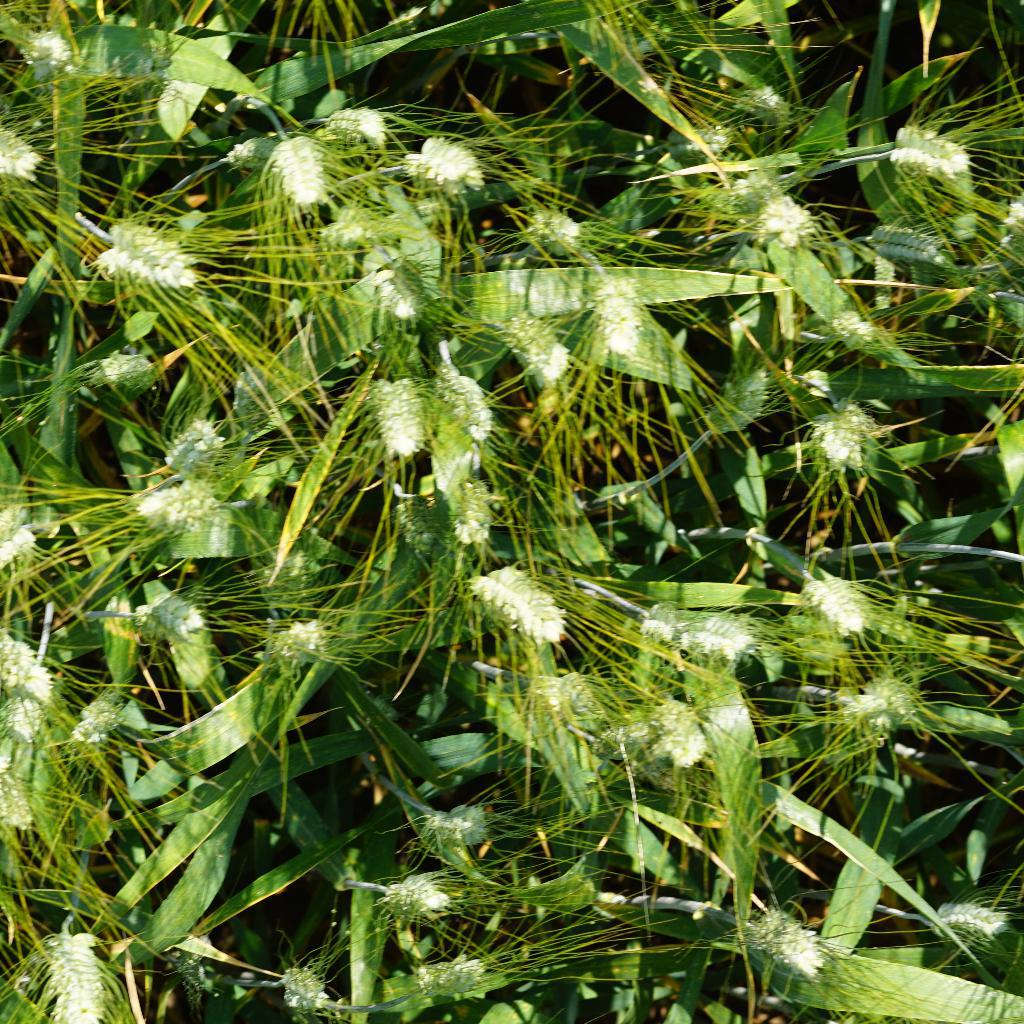0-0: (21, 914, 122, 1024), (627, 590, 757, 669), (82, 210, 204, 292), (462, 563, 571, 653), (516, 663, 628, 743), (482, 296, 573, 390), (866, 115, 976, 187), (686, 351, 776, 438), (344, 238, 434, 322), (747, 903, 841, 982), (432, 354, 504, 455), (627, 692, 713, 774), (71, 337, 175, 404), (803, 570, 890, 650), (256, 116, 331, 208), (869, 210, 965, 281), (137, 571, 221, 651), (583, 264, 653, 359), (251, 527, 328, 613), (441, 458, 504, 556), (0, 487, 71, 573), (373, 369, 440, 459), (837, 676, 920, 748), (915, 885, 1006, 949), (407, 130, 493, 197), (314, 85, 396, 152), (254, 606, 337, 672), (0, 664, 60, 755), (161, 406, 230, 485), (134, 475, 205, 550), (74, 684, 146, 755), (421, 796, 500, 859), (811, 406, 882, 474), (0, 739, 53, 828), (119, 34, 183, 107), (523, 191, 591, 258), (0, 628, 62, 701), (723, 80, 802, 137), (384, 486, 441, 558), (823, 299, 900, 352), (19, 27, 88, 86), (0, 112, 52, 186), (744, 193, 814, 246), (321, 197, 391, 249), (384, 869, 448, 925), (421, 949, 493, 997), (665, 121, 736, 164), (225, 118, 286, 167), (284, 967, 328, 1016)
